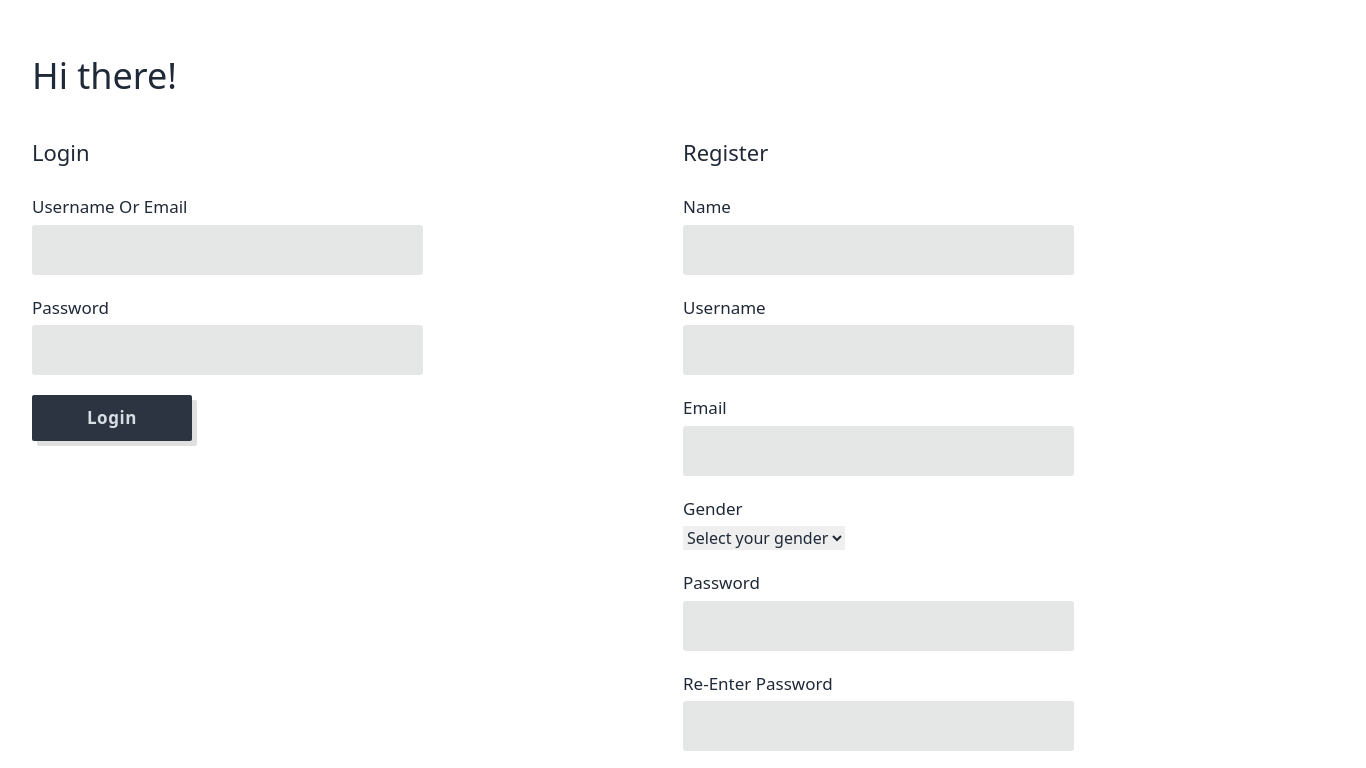
Test case: Testing login component › should refuse to login if empty or short details are provided
This screenshot has width=1366, height=768.
# submit the form
Click the button "Login" at [112, 418], box [32, 395, 192, 440]
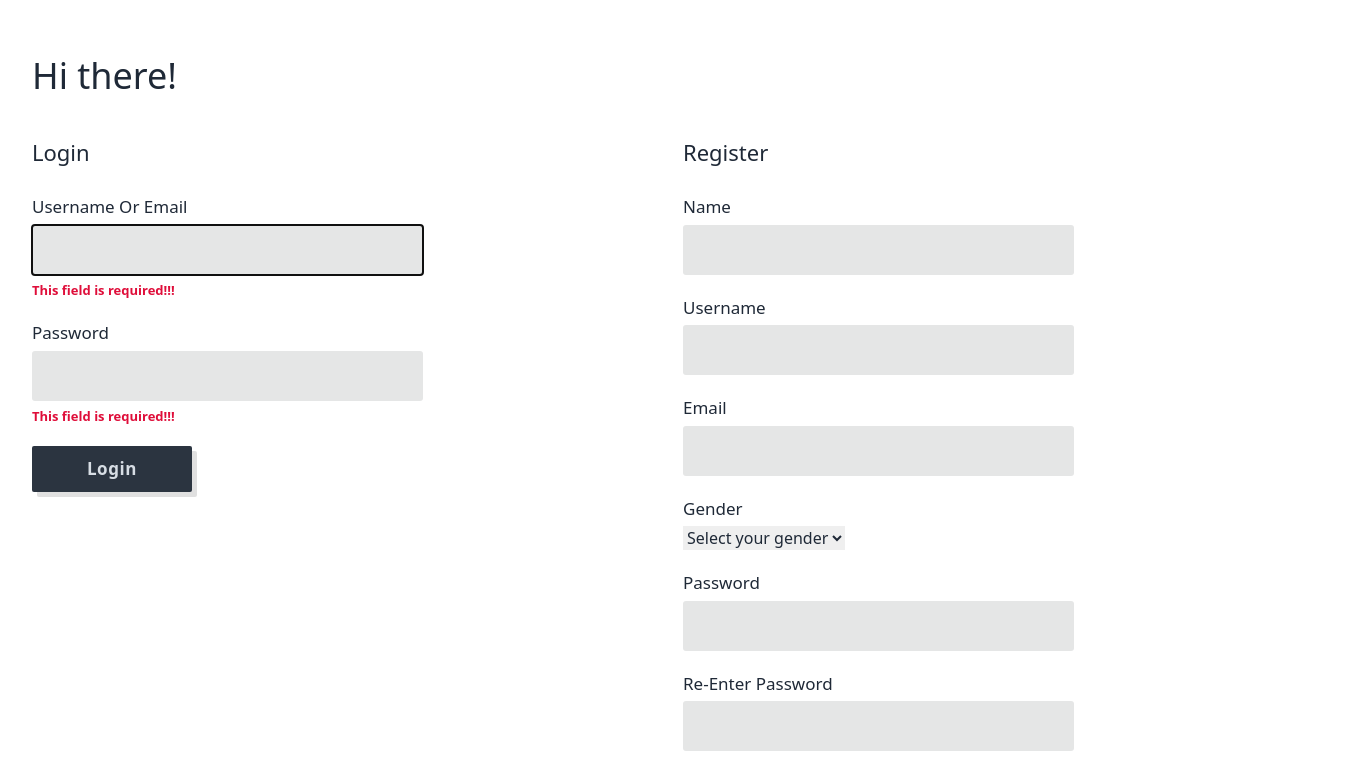
Result: the text "This field is required!!!" below "Username or Email" is shown at [32, 280, 175, 298]
